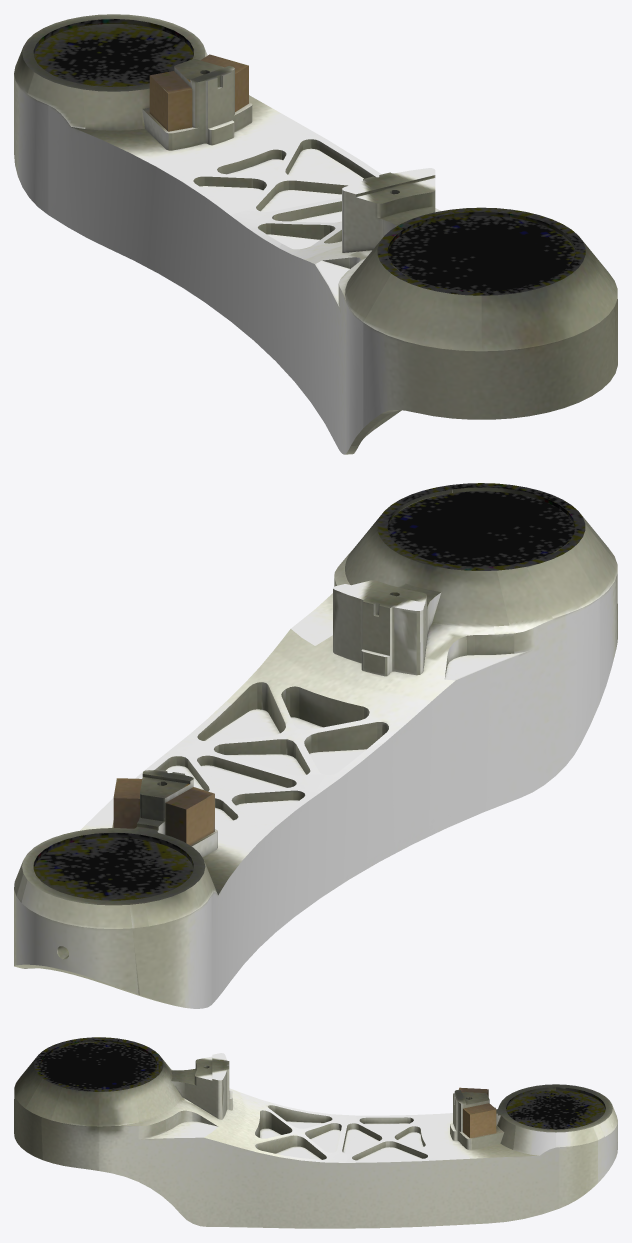
Rendered from robot1_arm1.glb.
The picture shows the model from 3 angles, top to bottom: view 1: azimuth 30°, elevation 25°; view 2: azimuth 150°, elevation 25°; view 3: azimuth 270°, elevation 25°; orthographic projection. The views are drawn at different scales.
Parts seen in each view (by area): view 1: Asset3DLoader.sceneRoot; view 2: Asset3DLoader.sceneRoot; view 3: Asset3DLoader.sceneRoot.
Part boxes in pixels (x1,y1,x2,y2): Asset3DLoader.sceneRoot: [14, 14, 617, 454]; Asset3DLoader.sceneRoot: [14, 483, 617, 1008]; Asset3DLoader.sceneRoot: [14, 1037, 617, 1228].
Size of the model in its own units: 260 by 220 by 925.
Materials: 1 (1 with a texture image).
